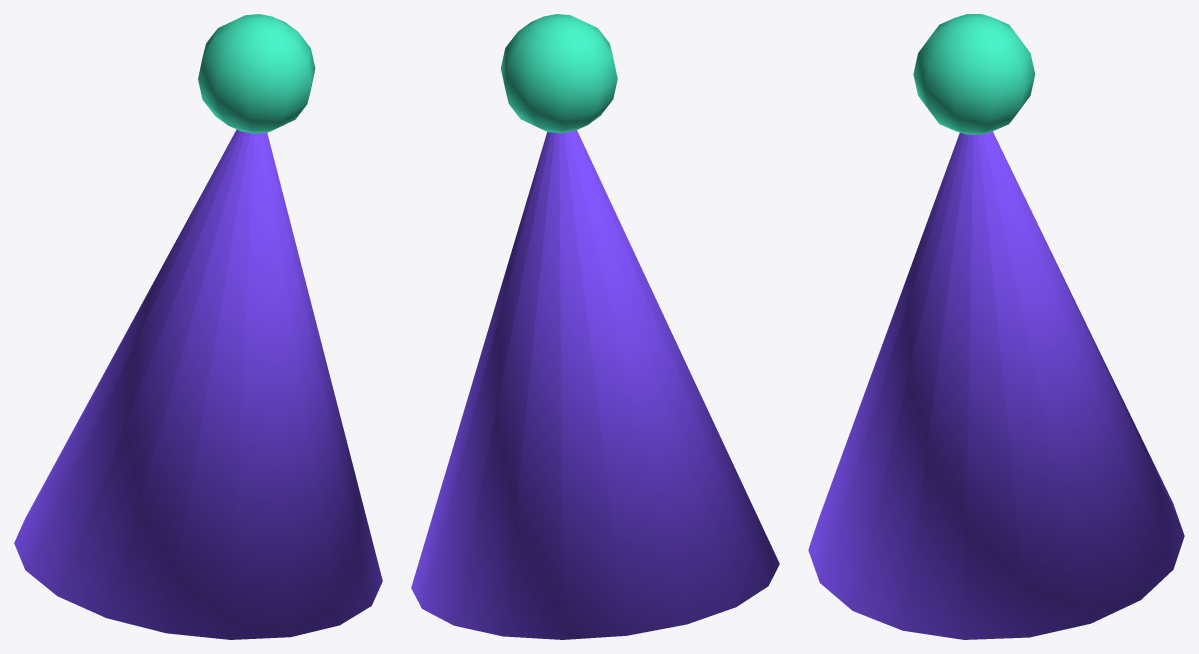
The model's file is acc_party_hat.glb.
The picture shows the model from 3 angles, left to right: view 1: azimuth 30°, elevation 25°; view 2: azimuth 150°, elevation 25°; view 3: azimuth 270°, elevation 25°; orthographic projection.
Visible parts, largest first — view 1: PartyHat, PartyPom; view 2: PartyHat, PartyPom; view 3: PartyHat, PartyPom.
Part boxes in pixels (left/top/right/bottom): PartyHat: left=14, top=129, right=382, bottom=639; PartyPom: left=198, top=14, right=315, bottom=133; PartyHat: left=411, top=130, right=779, bottom=639; PartyPom: left=501, top=14, right=617, bottom=133; PartyHat: left=808, top=131, right=1184, bottom=639; PartyPom: left=913, top=14, right=1035, bottom=134.
Size of the model in its own units: 0.3331 by 0.5642 by 0.3397.
